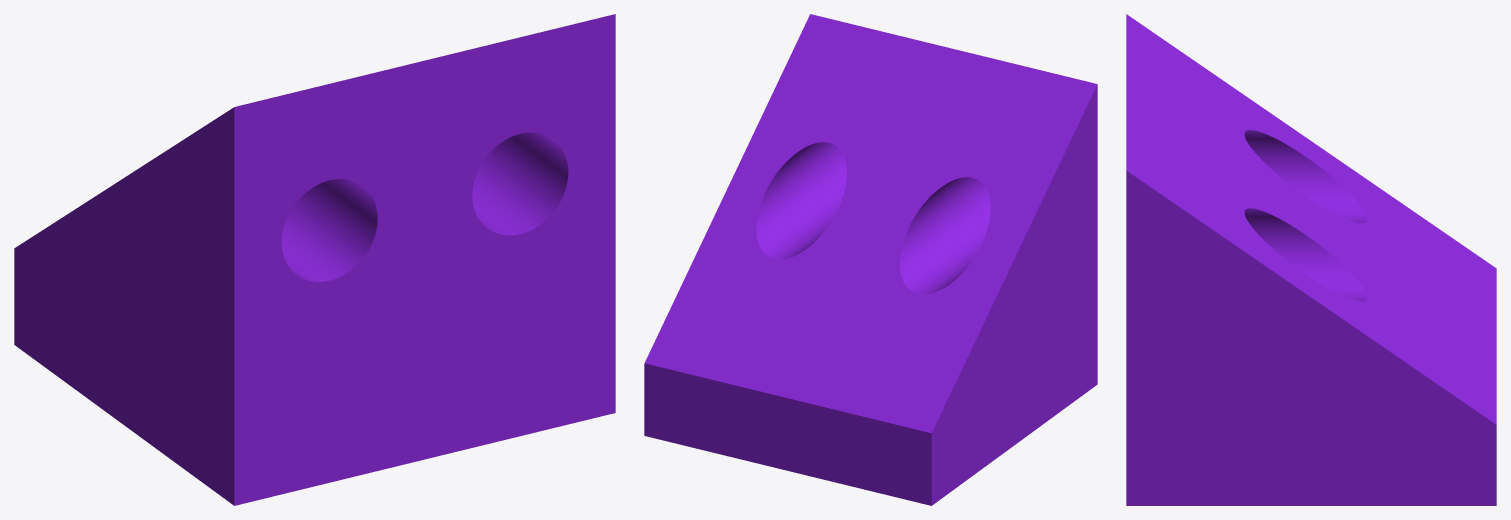
The picture shows the model from 3 angles, left to right: view 1: azimuth 30°, elevation 25°; view 2: azimuth 150°, elevation 25°; view 3: azimuth 270°, elevation 25°; orthographic projection. The views are drawn at different scales.
Parts seen in each view (by area): view 1: Cube; view 2: Cube; view 3: Cube.
Part boxes in pixels (x1,y1,x2,y2): Cube: (14, 14, 615, 505); Cube: (644, 14, 1097, 505); Cube: (1126, 14, 1496, 505).
Bounding box in the file's own units: 2 × 2 × 2.
